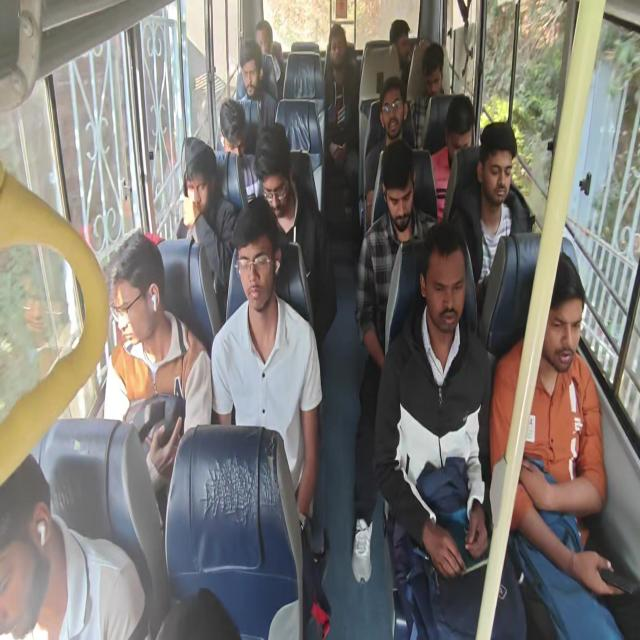person: (0, 459, 67, 637), (531, 256, 580, 374), (120, 258, 163, 358), (426, 231, 464, 334), (257, 138, 300, 214), (178, 153, 217, 227), (382, 161, 414, 240), (231, 248, 273, 308), (485, 133, 514, 197), (216, 106, 247, 161), (378, 9, 412, 59), (239, 54, 266, 108), (448, 101, 470, 159), (376, 92, 408, 128), (426, 42, 446, 98), (322, 25, 348, 65), (252, 17, 274, 59)
